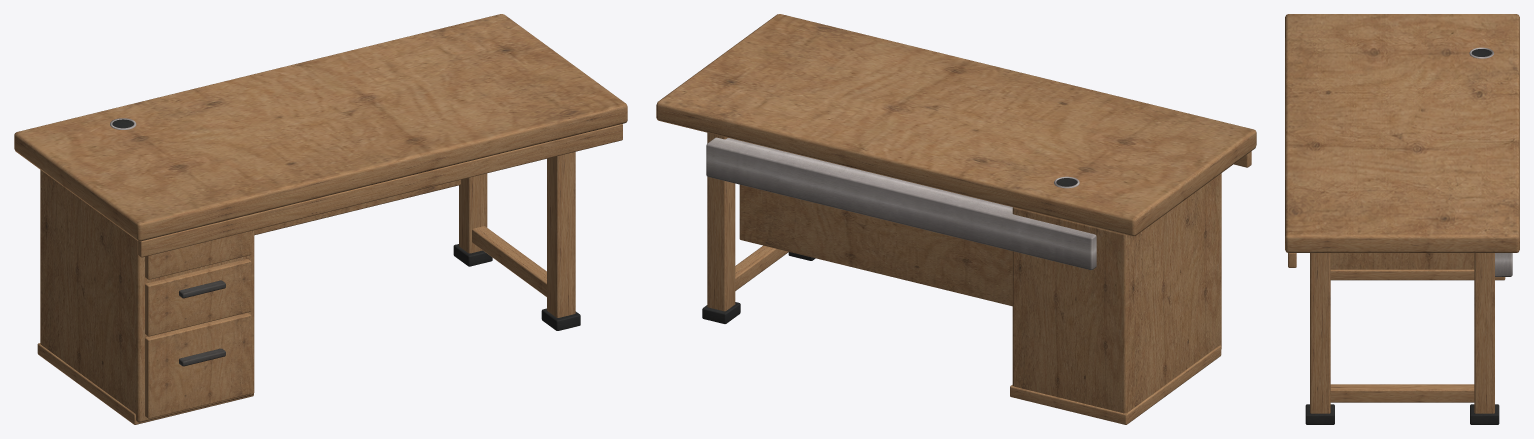
File: SM_FacilityRooms_OperatorDesk.fbx
3 renders of one model, left to right at view 1: azimuth 30°, elevation 25°; view 2: azimuth 150°, elevation 25°; view 3: azimuth 270°, elevation 25°, orthographic. The views are drawn at different scales.
Visible parts, largest first — view 1: SM_FacilityRooms_OperatorDesk; view 2: SM_FacilityRooms_OperatorDesk; view 3: SM_FacilityRooms_OperatorDesk.
Part boxes in pixels (x1,y1,x2,y2): SM_FacilityRooms_OperatorDesk: (14,14,627,424); SM_FacilityRooms_OperatorDesk: (656,14,1256,424); SM_FacilityRooms_OperatorDesk: (1285,14,1519,424).
Size of what is drawn, in the model's own units: 180 by 80 by 78.
